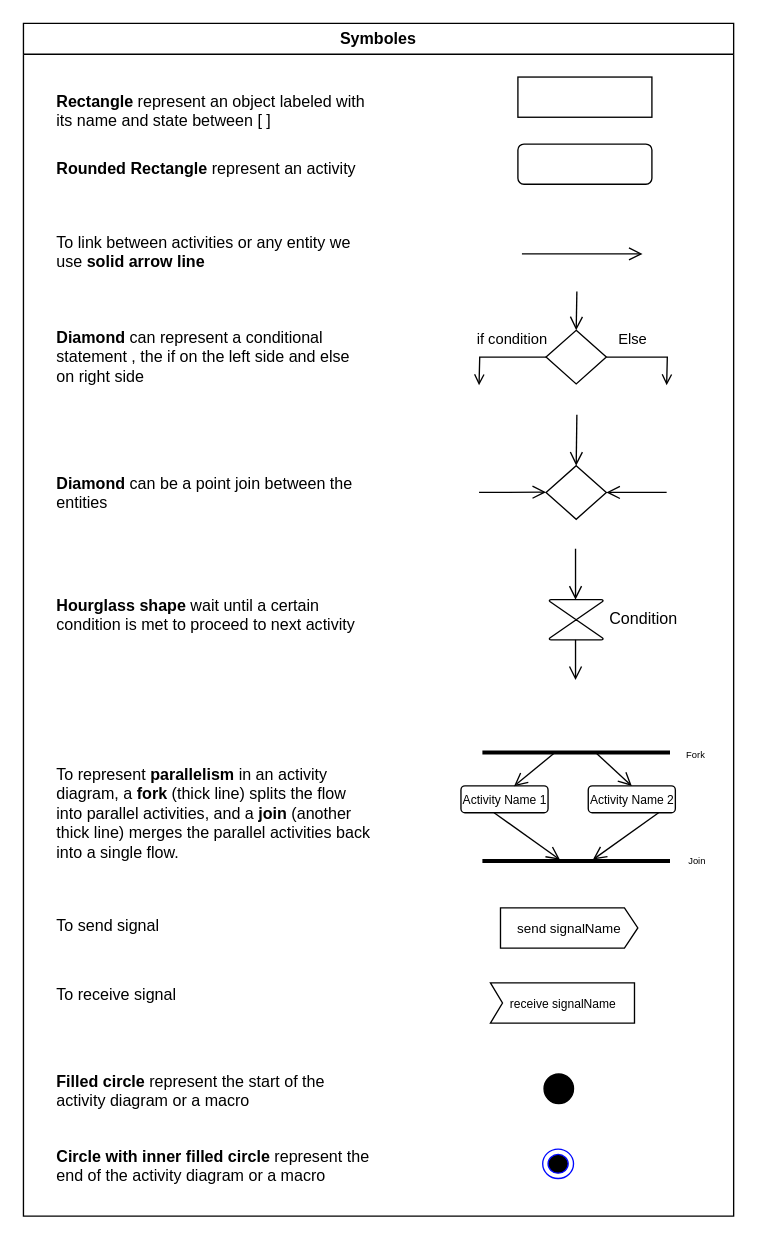
The diagram is 757 pixels wide and 1240 high, and some of its shapes have lost their labels. The shapes that lost their labels are listed below. From the top down, each one's box as (x1, y1, x2, y2) in pixels, then its label:
(517, 76, 652, 117): Object Name [state]
(517, 143, 652, 184): Activity Name
